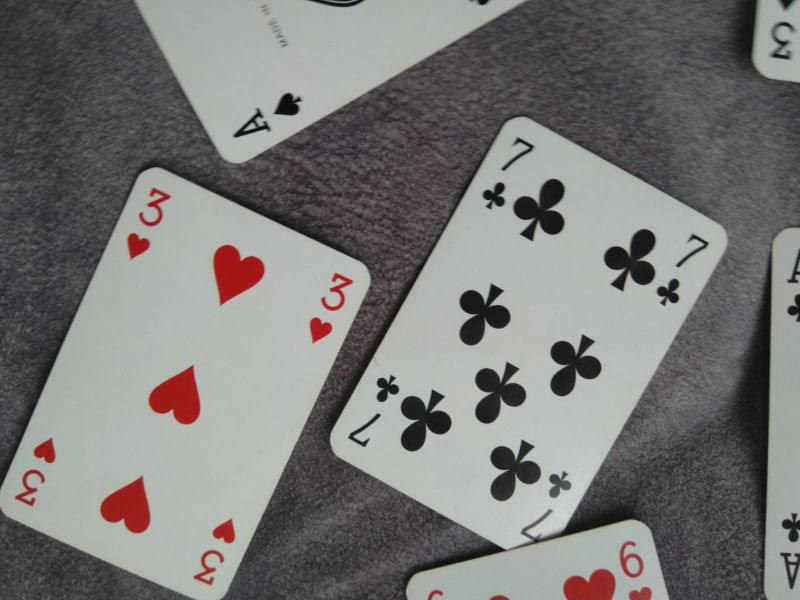3h: (12, 437, 65, 510), (125, 184, 173, 264), (306, 271, 354, 344), (191, 515, 239, 587)
7c: (478, 134, 536, 213), (654, 229, 711, 309), (345, 372, 401, 449), (518, 468, 573, 545)
Ac: (775, 505, 800, 591)
As: (230, 85, 308, 138)
